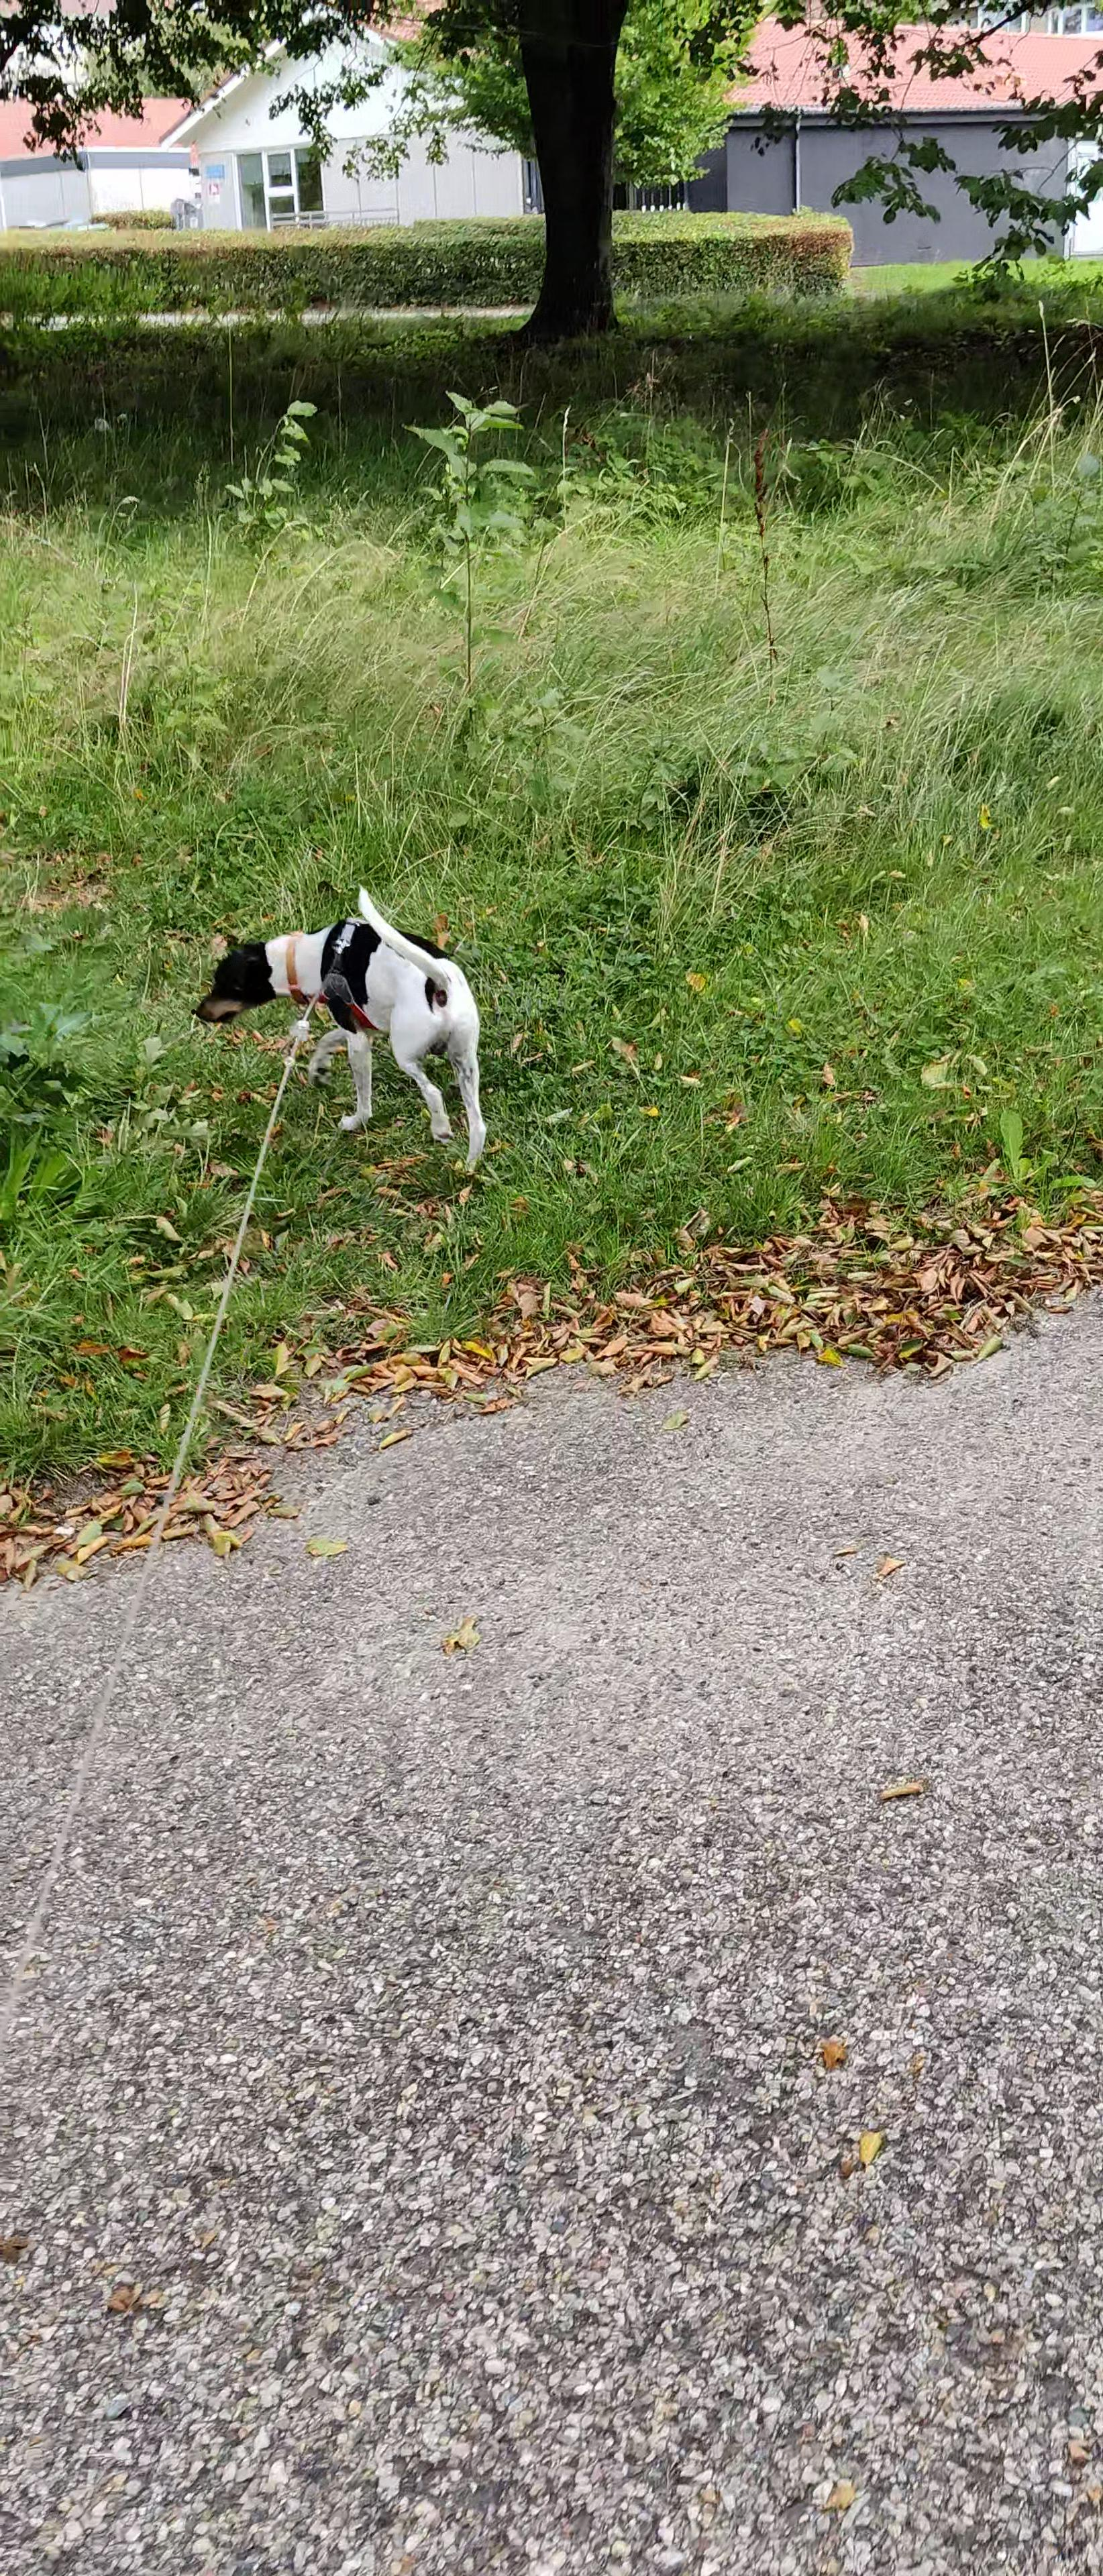Dog: (191, 879, 490, 1175)
